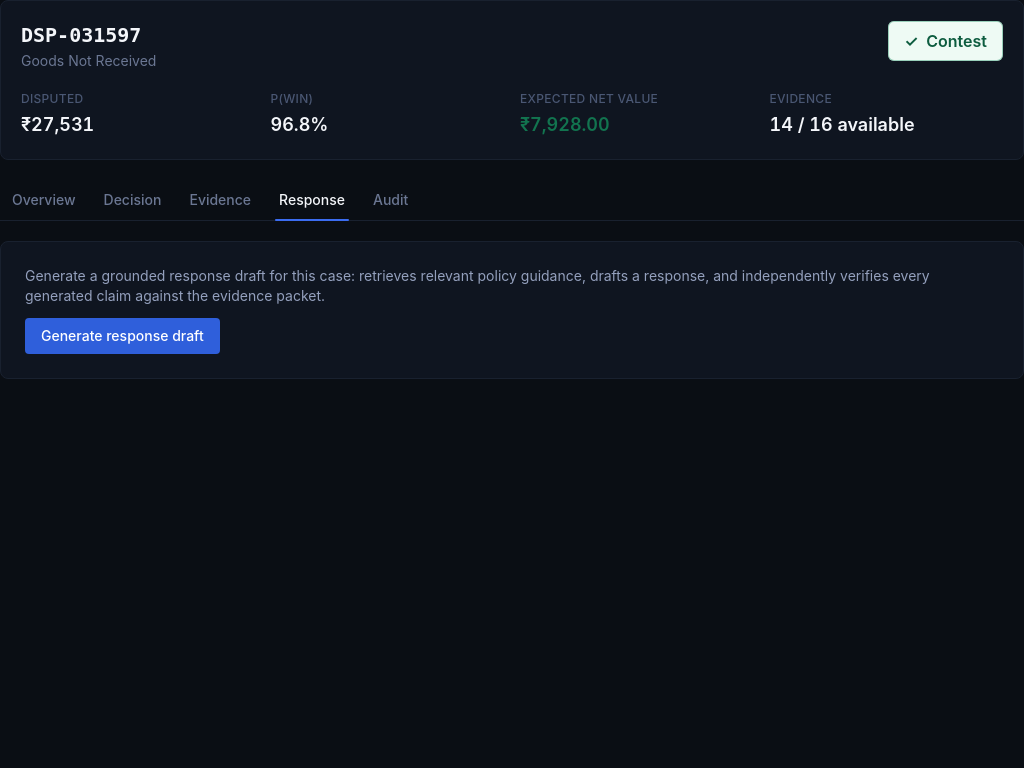
Test case: CaseResponsePage › renders a provider outage as an AI-availability problem, never "Backend unreachable"
The width and height of the screenshot is (1024, 768).
Click the button "Generate response draft" at (122, 336), box [25,318,220,354]
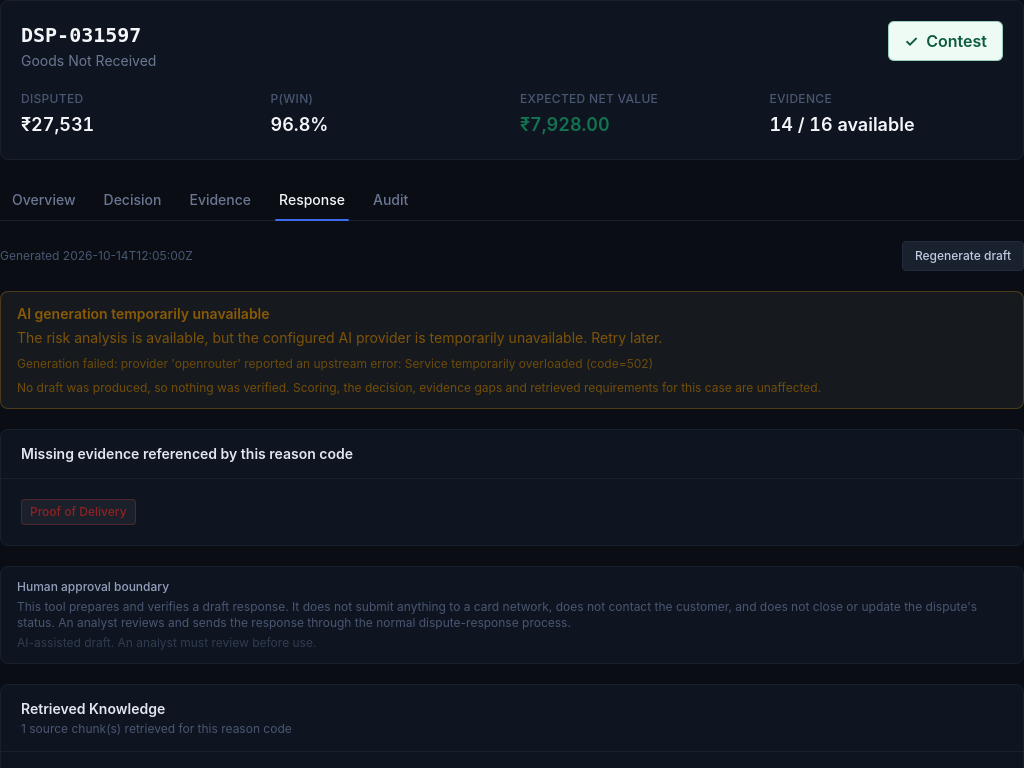
Check: the text "AI generation temporarily unavailable" is shown, box [17,305,270,322]
